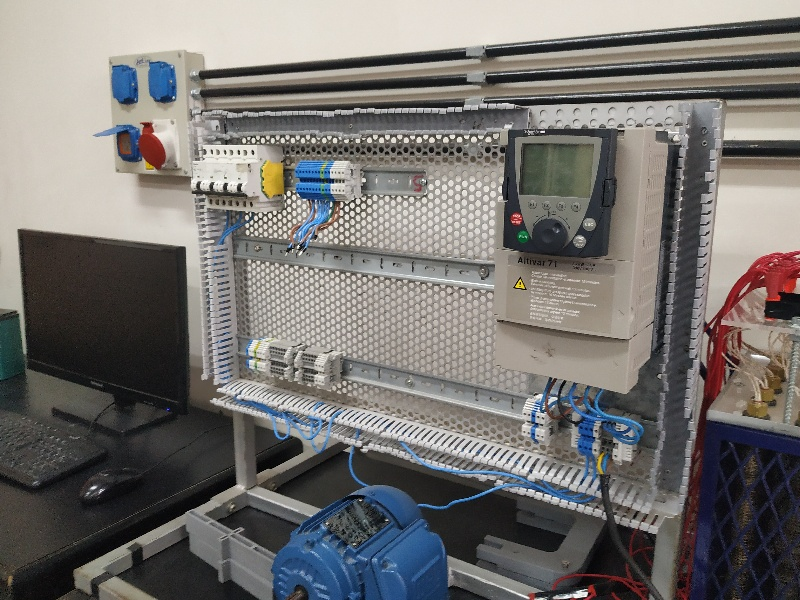Tablero 0: (193, 118, 679, 495)
